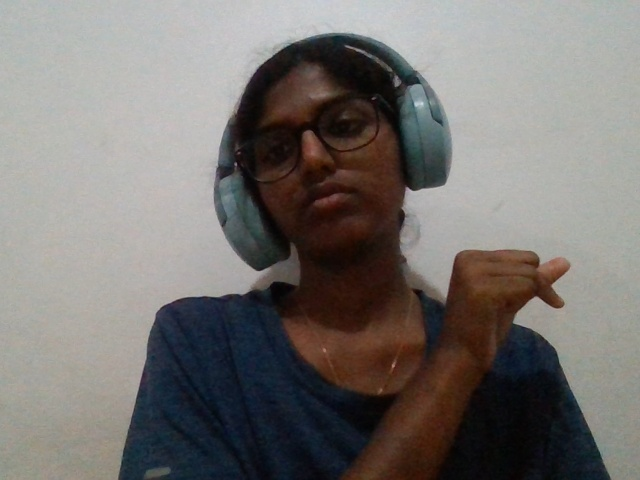G: (425, 233, 583, 415)
